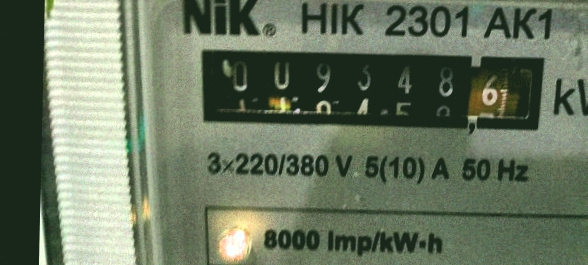0: (270, 56, 292, 92), (229, 57, 250, 92)
3: (352, 59, 375, 91)
4: (392, 60, 414, 97)
6: (479, 71, 502, 106)
8: (435, 63, 456, 97)
9: (313, 58, 332, 92)
screen: (176, 34, 563, 144)
